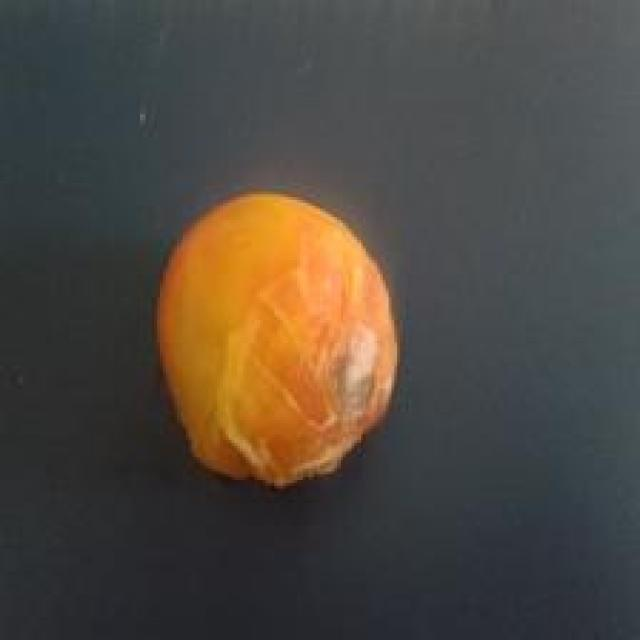Wet Waste: (149, 186, 410, 494)
